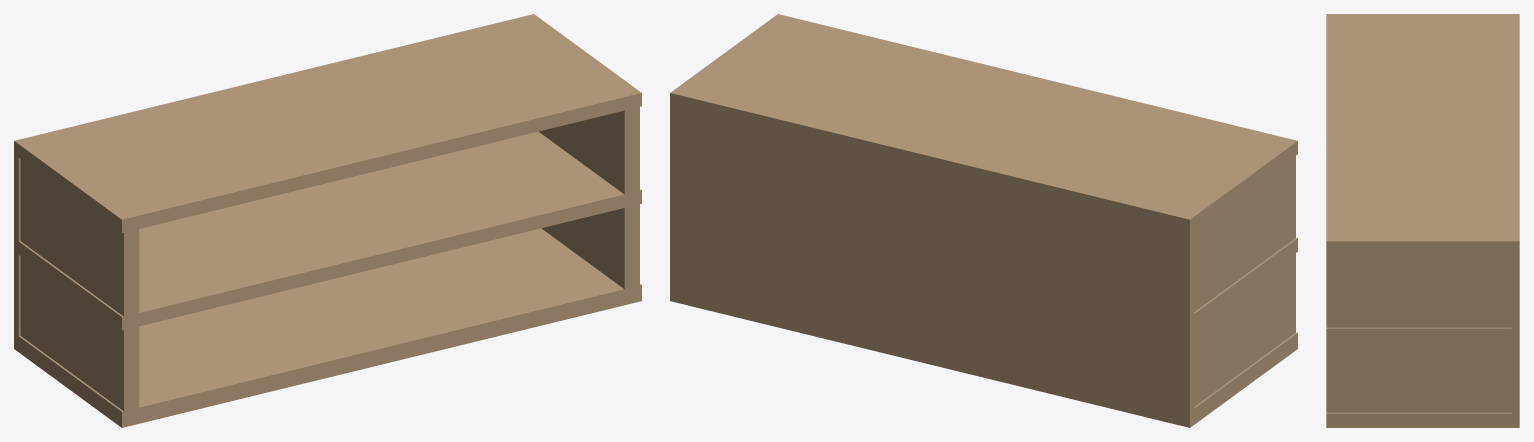
File: dm_shelfsmall.glb
3 renders of one model, left to right at view 1: azimuth 30°, elevation 25°; view 2: azimuth 150°, elevation 25°; view 3: azimuth 270°, elevation 25°, orthographic. The views are drawn at different scales.
Parts seen in each view (by area): view 1: dm_shelfsmall; view 2: dm_shelfsmall; view 3: dm_shelfsmall.
Part boxes in pixels (<box>): dm_shelfsmall: <box>14,14,641,427</box>; dm_shelfsmall: <box>670,14,1297,427</box>; dm_shelfsmall: <box>1326,14,1519,427</box>.
Size of the model in its own units: 0.81 by 0.31 by 0.291.
